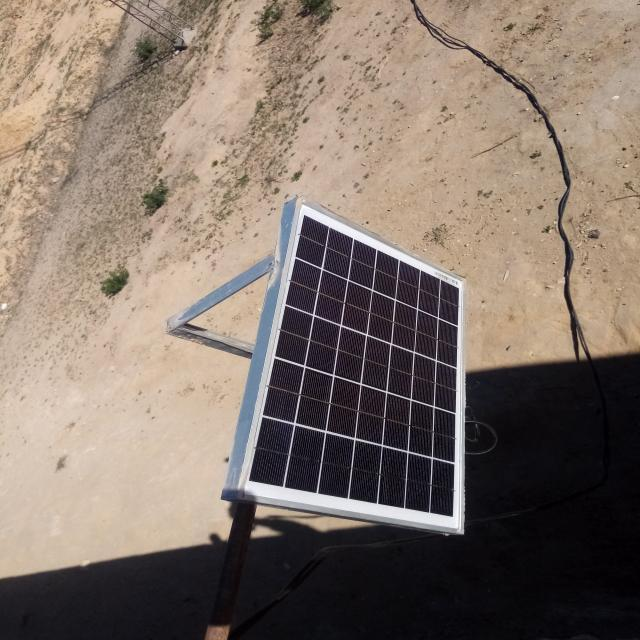no faulty: (236, 202, 466, 532)
